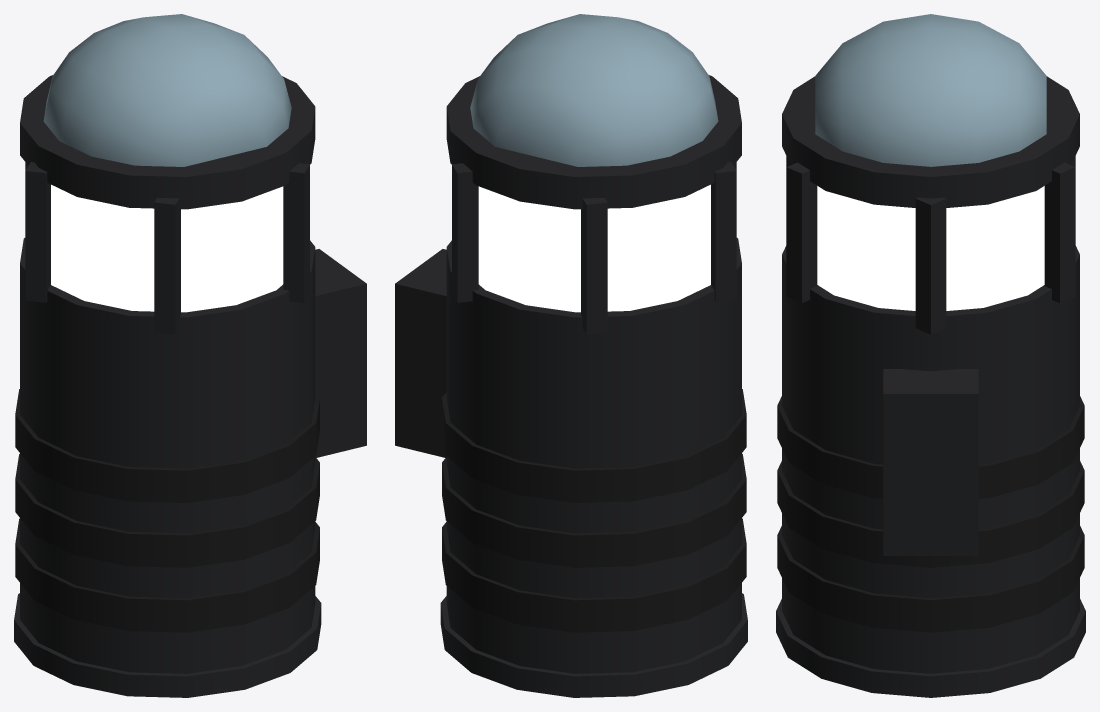
Rendered from strobe.glb.
The picture shows the model from 3 angles, left to right: view 1: azimuth 30°, elevation 25°; view 2: azimuth 150°, elevation 25°; view 3: azimuth 270°, elevation 25°; orthographic projection.
Parts seen in each view (by area): view 1: strobe; view 2: strobe; view 3: strobe.
Part boxes in pixels (x1,y1,x2,y2): strobe: [14, 14, 366, 697]; strobe: [395, 14, 747, 697]; strobe: [776, 14, 1085, 697].
Size of the model in its own units: 0.0616 by 0.112 by 0.052.
Materials: 1 (1 with a texture image).
